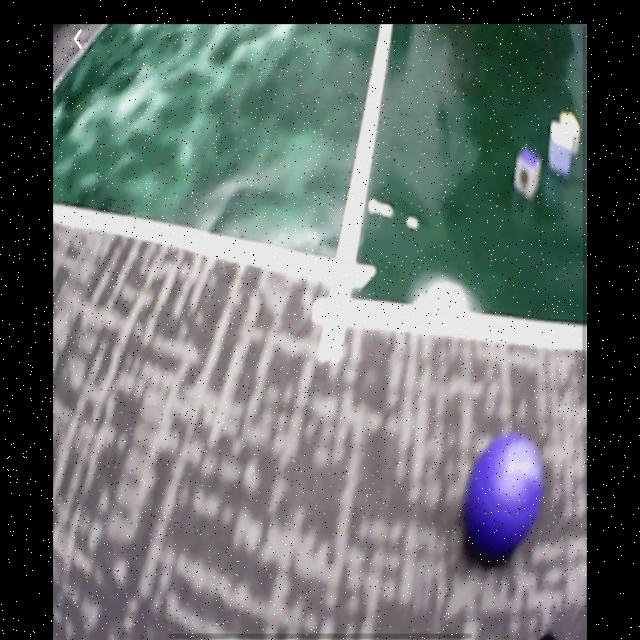ball: (468, 435, 545, 553)
